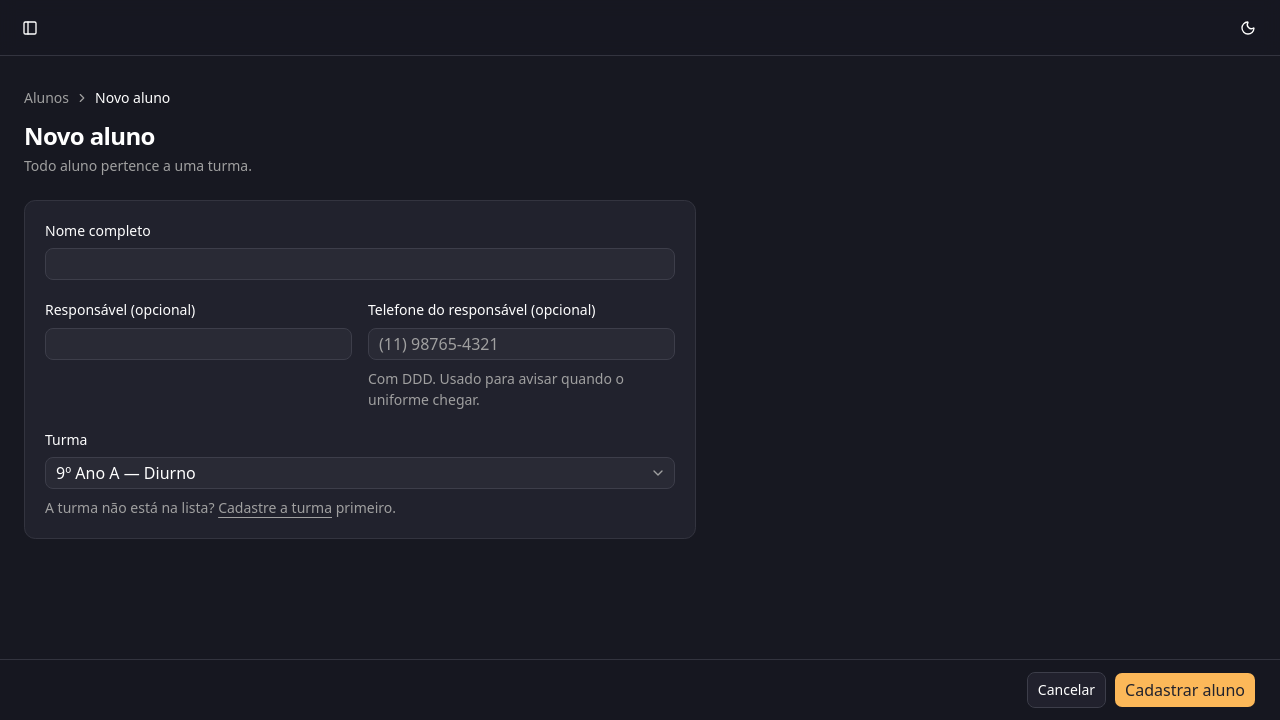
it: AlunoFormPage › recusa telefone sem DDD
In the field labelled "Nome completo": (360, 264) [45,248,675,280], type "Pedro Souza"
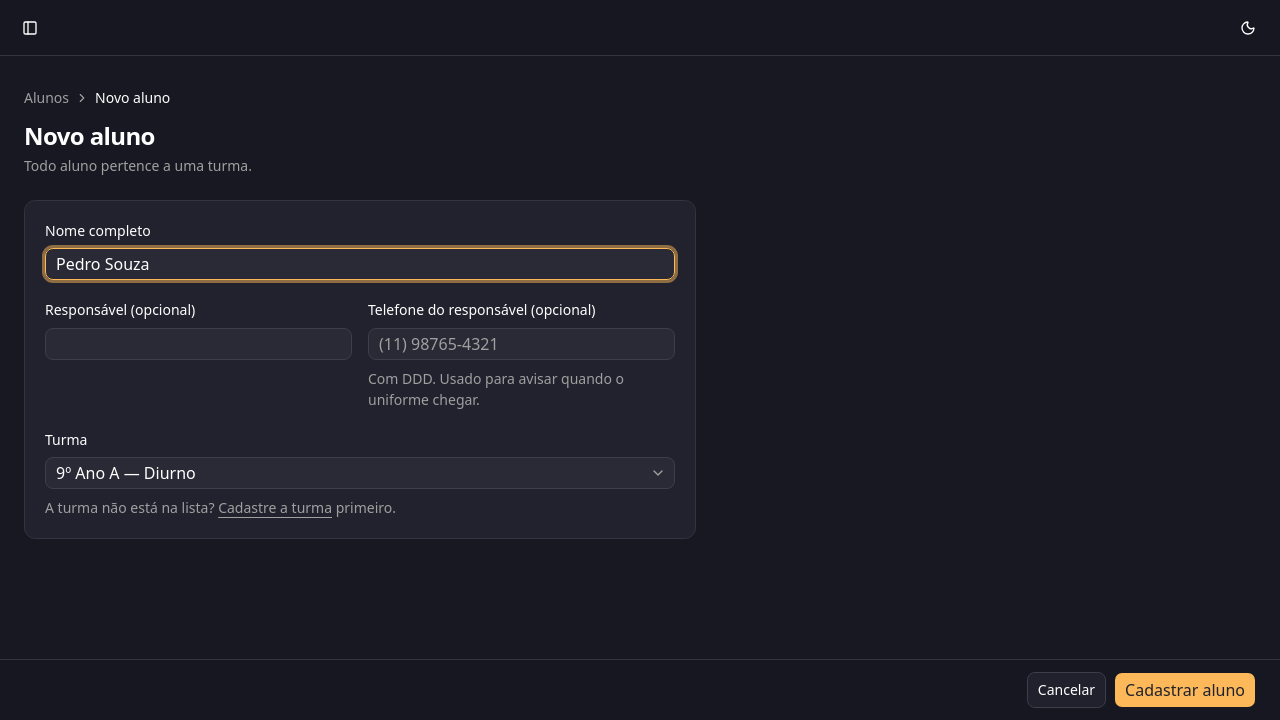
In the field labelled "Telefone do responsável (opcional)": (522, 344) [368,328,675,360], type "98765"
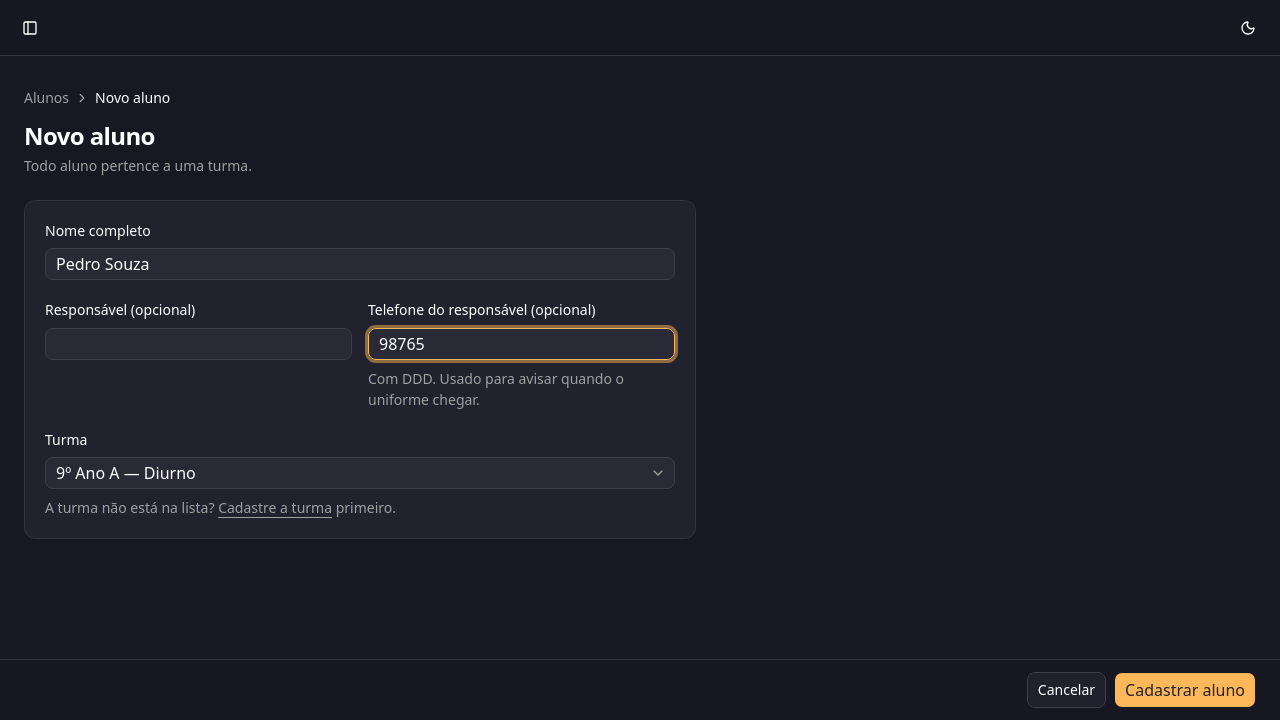
Click the button "Cadastrar aluno": (1185, 690) [1114,672,1256,708]
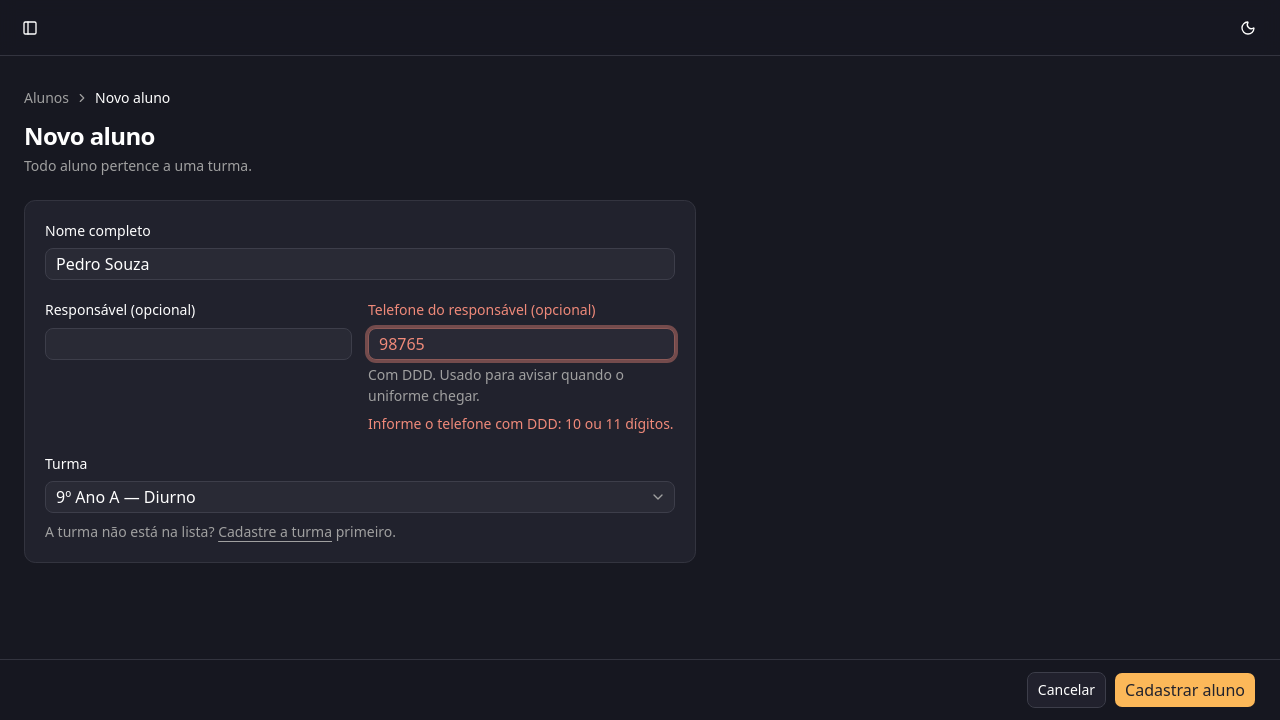
Now the text "Informe o telefone com DDD: 10 ou 11 dígitos." is shown, box [368,414,675,434]
